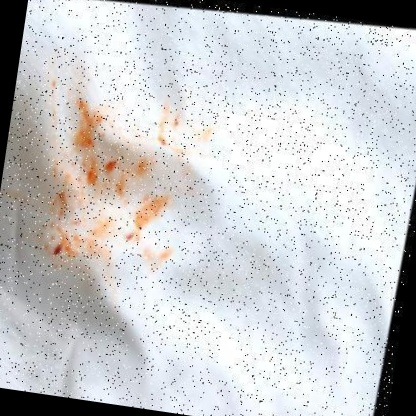kimchi: (0, 80, 224, 306), (69, 97, 114, 164), (76, 160, 101, 199), (39, 237, 68, 269), (100, 151, 122, 186), (158, 132, 173, 151), (122, 230, 138, 243)
